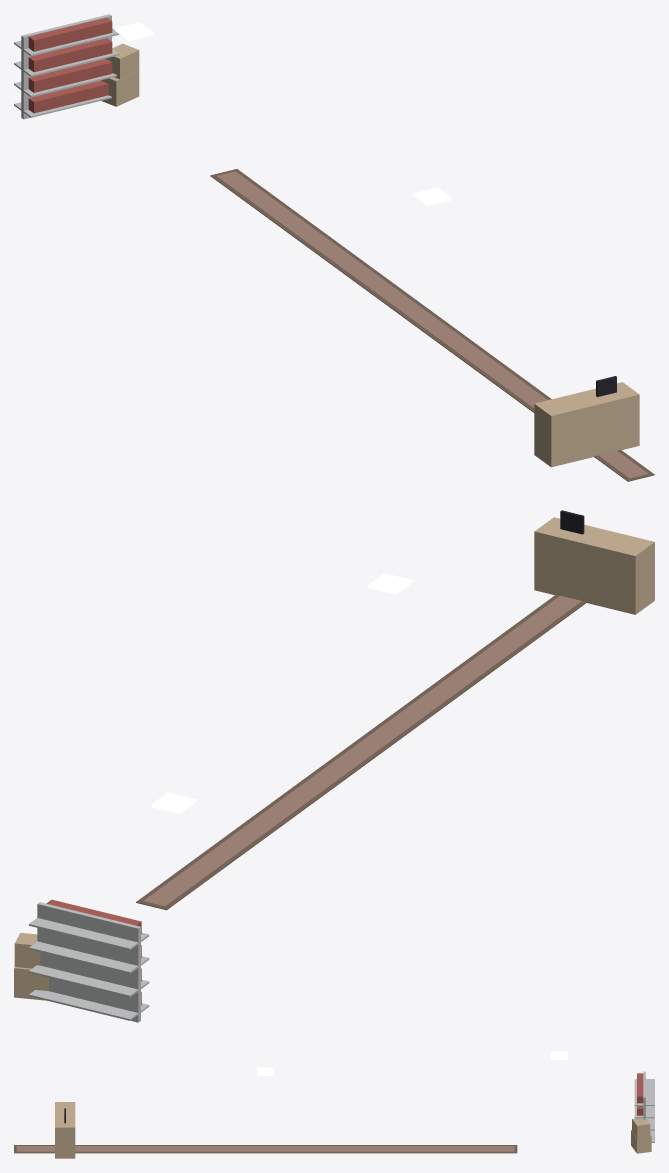
Rendered from fine-s0.glb.
3 views of the same model, one above another, from view 1: azimuth 30°, elevation 25°; view 2: azimuth 150°, elevation 25°; view 3: azimuth 270°, elevation 25° (orthographic). The views are drawn at different scales.
Visible parts, largest first — view 1: soft-s0, shelving.000, shop-counter.000, cardboard-box.000; view 2: soft-s0, shelving.000, shop-counter.000, cardboard-box.000; view 3: soft-s0, shop-counter.000, shelving.000, cardboard-box.000.
Part boxes in pixels (x1,y1,x2,y2): soft-s0: [210, 169, 654, 481]; shelving.000: [14, 14, 119, 119]; shop-counter.000: [534, 376, 639, 467]; cardboard-box.000: [101, 43, 139, 106]; soft-s0: [136, 595, 586, 910]; shelving.000: [29, 899, 149, 1022]; shop-counter.000: [534, 510, 654, 614]; cardboard-box.000: [14, 932, 48, 1000]; soft-s0: [14, 1145, 517, 1153]; shop-counter.000: [55, 1102, 75, 1158]; shelving.000: [634, 1071, 654, 1142]; cardboard-box.000: [631, 1118, 651, 1153].
Bounding box in the file's own units: 2.6 × 2.53 × 18.78.
